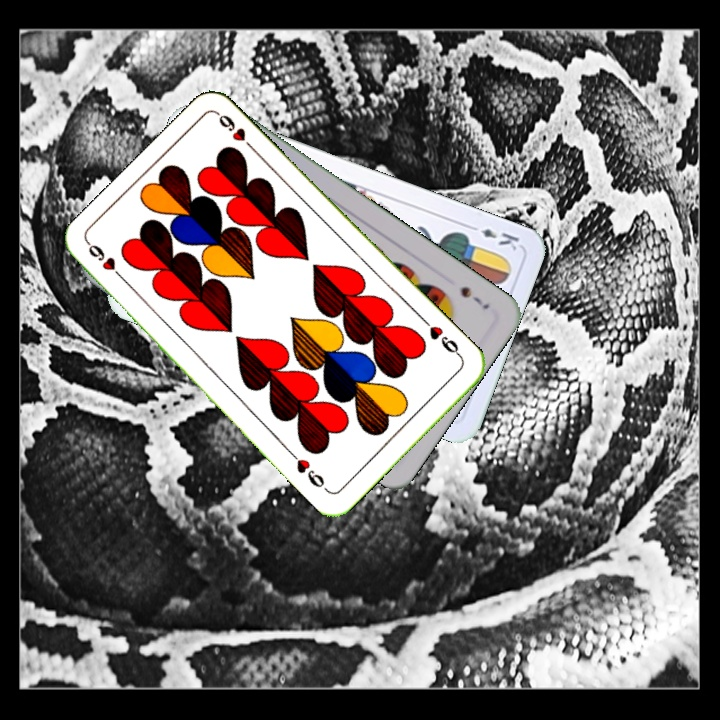EK: (464, 220, 522, 253)
H9: (84, 239, 130, 286), (419, 315, 465, 361)
S7: (456, 282, 492, 312)
